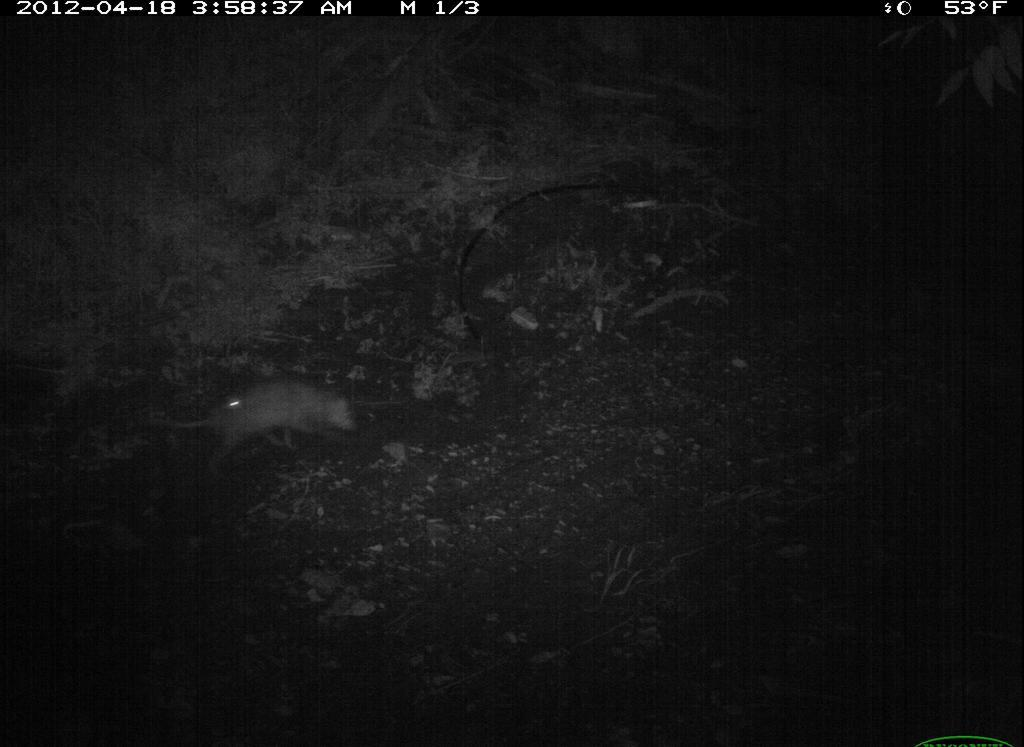opossum: (127, 359, 401, 477)
